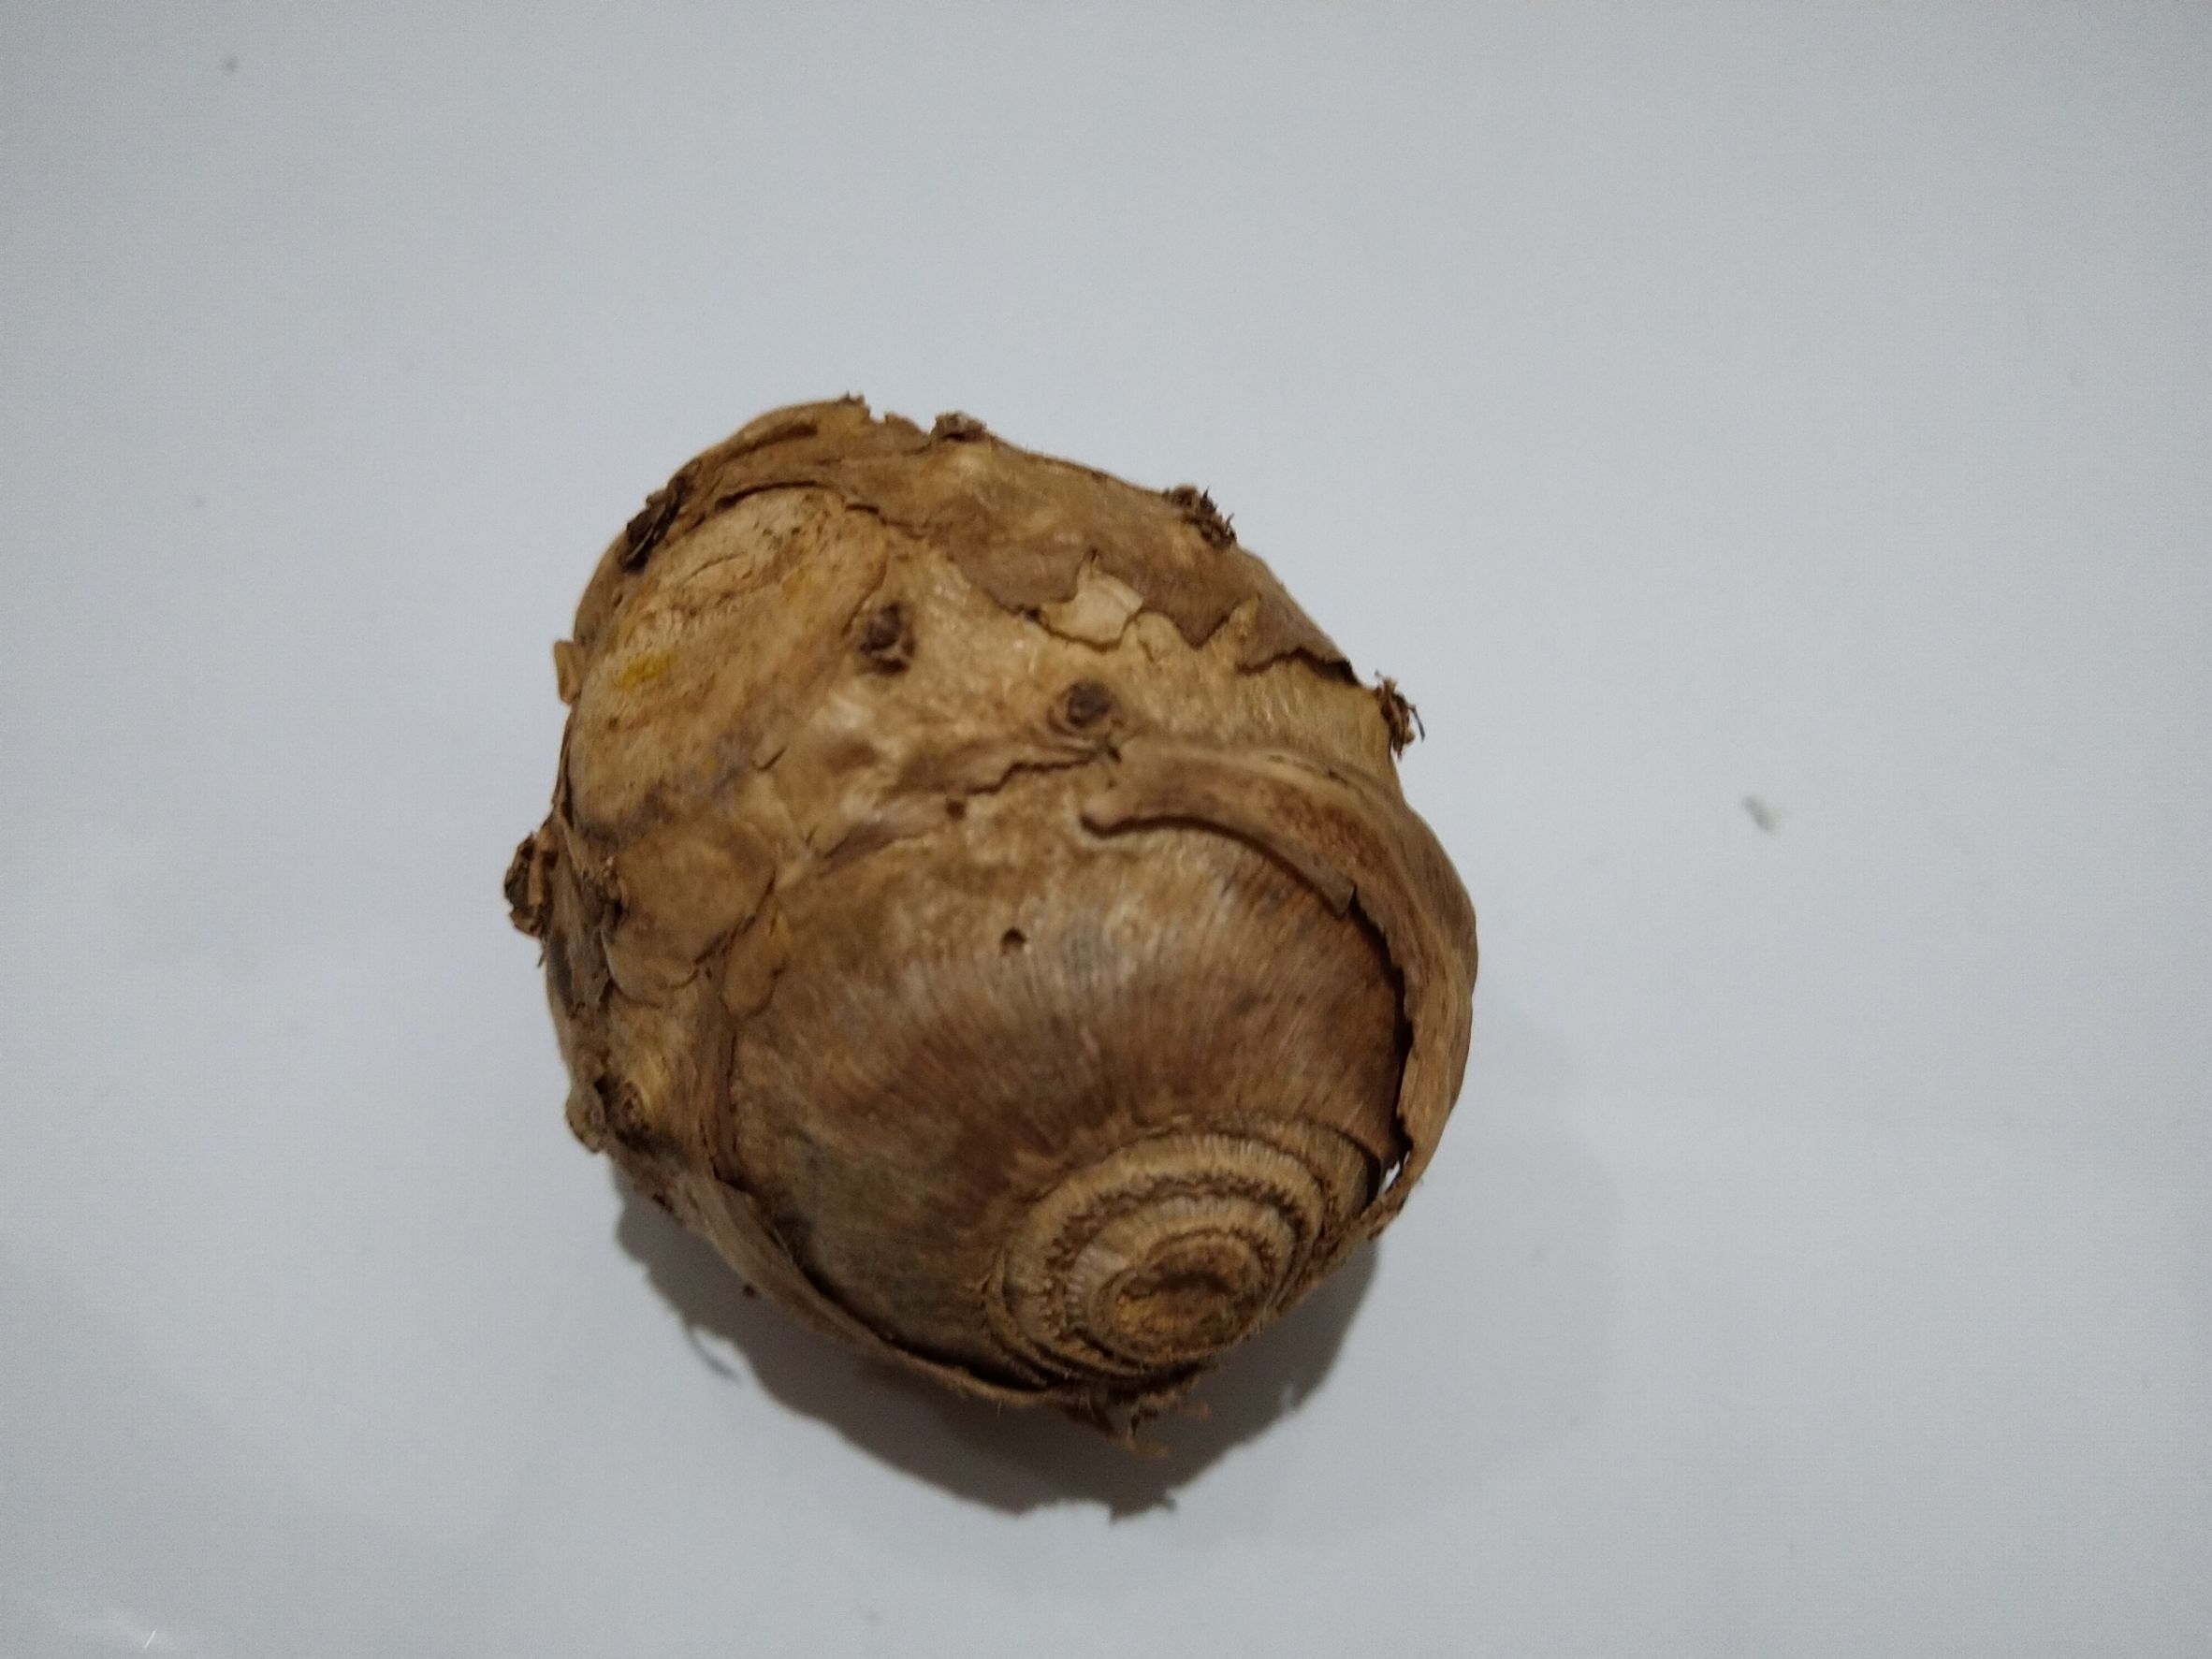Temulawak: (538, 399, 1477, 1413)
